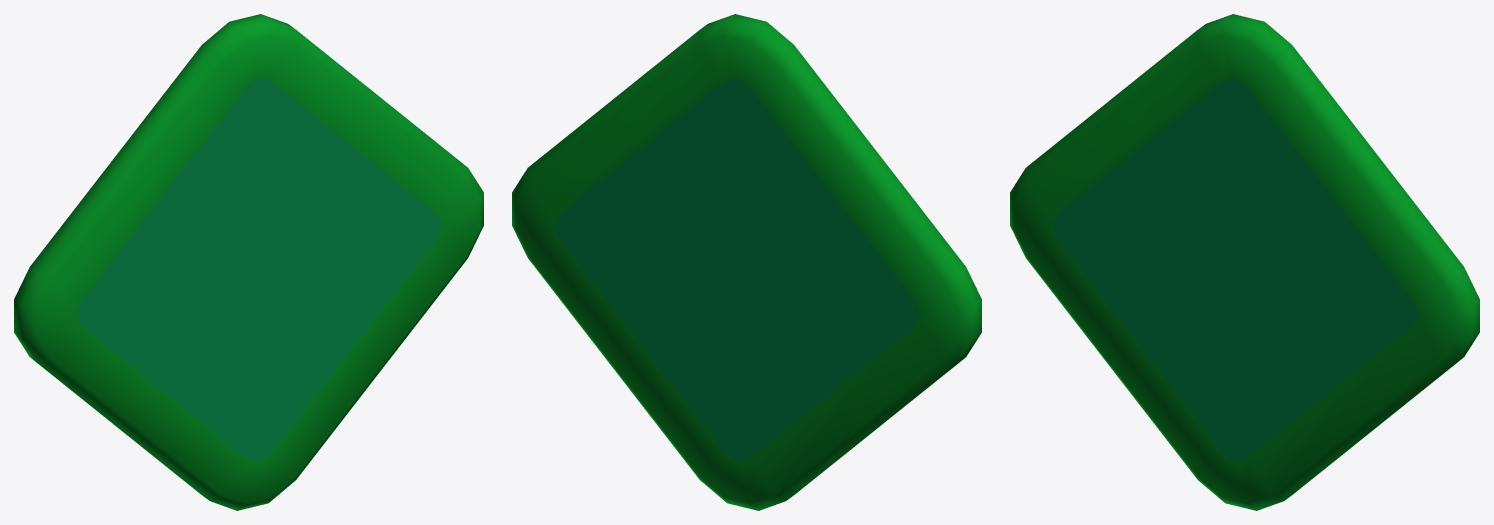
File: Kitchen_potholder_02.3.fbx
3 renders of one model, left to right at view 1: azimuth 30°, elevation 25°; view 2: azimuth 150°, elevation 25°; view 3: azimuth 330°, elevation 25°, orthographic.
Parts seen in each view (by area): view 1: Kitchen_potholder_02.3; view 2: Kitchen_potholder_02.3; view 3: Kitchen_potholder_02.3.
Part boxes in pixels (x1,y1,x2,y2): Kitchen_potholder_02.3: (14, 14, 483, 510); Kitchen_potholder_02.3: (512, 14, 981, 510); Kitchen_potholder_02.3: (1010, 14, 1479, 510).
Bounding box in the file's own units: 66.33 × 5 × 66.33.
